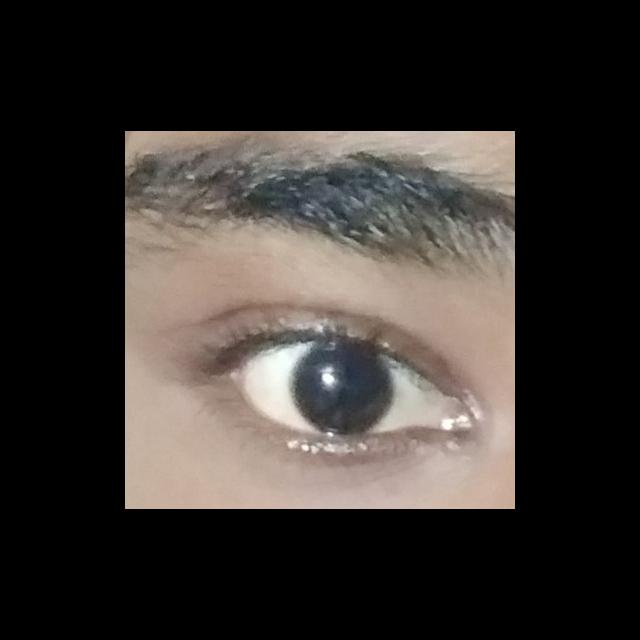eye: (234, 338, 449, 438)
iris: (291, 342, 394, 434)
